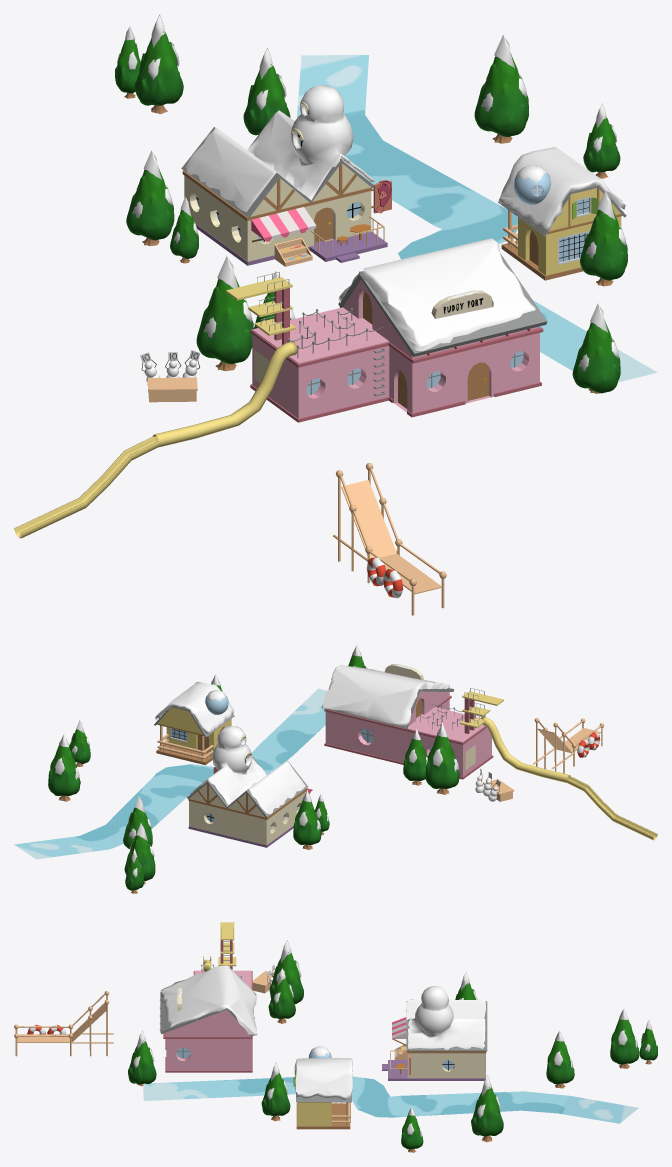
Rendered from Neighborhood_PudgyPort_02.fbx.
3 views of the same model, one above another, from view 1: azimuth 30°, elevation 25°; view 2: azimuth 150°, elevation 25°; view 3: azimuth 270°, elevation 25° (orthographic). The views are drawn at different scales.
Parts seen in each view (by area): view 1: polySurface129, Building_FishMarket2Roofs, Object_PudgyPortRoad, Object_Dock, Building_FlatRooftopHouse, Building_House_FlatRoofIgloo1, Foliage_TreeSnow8, Foliage_TreeSnow6, Foliage_TreeSnow3, Foliage_TreeSnow, Foliage_TreeSnow5, Foliage_TreeSnow10 (+6 smaller); view 2: polySurface129, Building_FishMarket2Roofs, Object_PudgyPortRoad, Building_FlatRooftopHouse, Building_House_FlatRoofIgloo1, Object_Dock, Foliage_TreeSnow8, Foliage_TreeSnow6, Foliage_TreeSnow, Foliage_TreeSnow9, Foliage_TreeSnow3, Foliage_TreeSnow2 (+2 smaller); view 3: polySurface129, Object_PudgyPortRoad, Building_FishMarket2Roofs, Building_House_FlatRoofIgloo1, Building_FlatRooftopHouse, Object_Dock, Foliage_TreeSnow6, Foliage_TreeSnow3, Foliage_TreeSnow2, Foliage_TreeSnow5, Foliage_TreeSnow10, Foliage_TreeSnow8 (+3 smaller).
Boxes of the visible parts, x1,y1,x2,y2 form: polySurface129: (14,238,547,538); Building_FishMarket2Roofs: (181,85,387,266); Object_PudgyPortRoad: (297,55,657,382); Object_Dock: (333,463,446,615); Building_FlatRooftopHouse: (498,185,626,280); Building_House_FlatRoofIgloo1: (499,147,625,231); Foliage_TreeSnow8: (196,256,253,371); Foliage_TreeSnow6: (474,35,528,143); Foliage_TreeSnow3: (135,14,183,114); Foliage_TreeSnow: (126,150,174,246); Foliage_TreeSnow5: (580,191,627,286); Foliage_TreeSnow10: (572,303,620,393); polySurface129: (321,664,657,840); Building_FishMarket2Roofs: (187,726,312,847); Object_PudgyPortRoad: (14,688,326,859); Building_FlatRooftopHouse: (154,706,234,765); Building_House_FlatRoofIgloo1: (155,681,234,733); Object_Dock: (533,718,604,773); Foliage_TreeSnow8: (425,723,459,794); Foliage_TreeSnow6: (48,733,80,801); Foliage_TreeSnow: (293,790,321,849); Foliage_TreeSnow9: (403,729,427,785); Foliage_TreeSnow3: (124,823,155,884); Foliage_TreeSnow2: (123,795,152,848); polySurface129: (159,922,257,1072); Object_PudgyPortRoad: (143,1076,638,1123); Building_FishMarket2Roofs: (382,986,487,1080); Building_House_FlatRoofIgloo1: (294,1046,352,1099); Building_FlatRooftopHouse: (293,1062,351,1129); Object_Dock: (14,991,113,1056); Foliage_TreeSnow6: (471,1075,503,1142); Foliage_TreeSnow3: (610,1008,639,1068); Foliage_TreeSnow2: (546,1030,574,1088); Foliage_TreeSnow5: (261,1062,290,1121); Foliage_TreeSnow10: (128,1030,156,1086); Foliage_TreeSnow8: (269,940,303,1004).
Size of the model in its own units: 3875 by 1056 by 4579.
